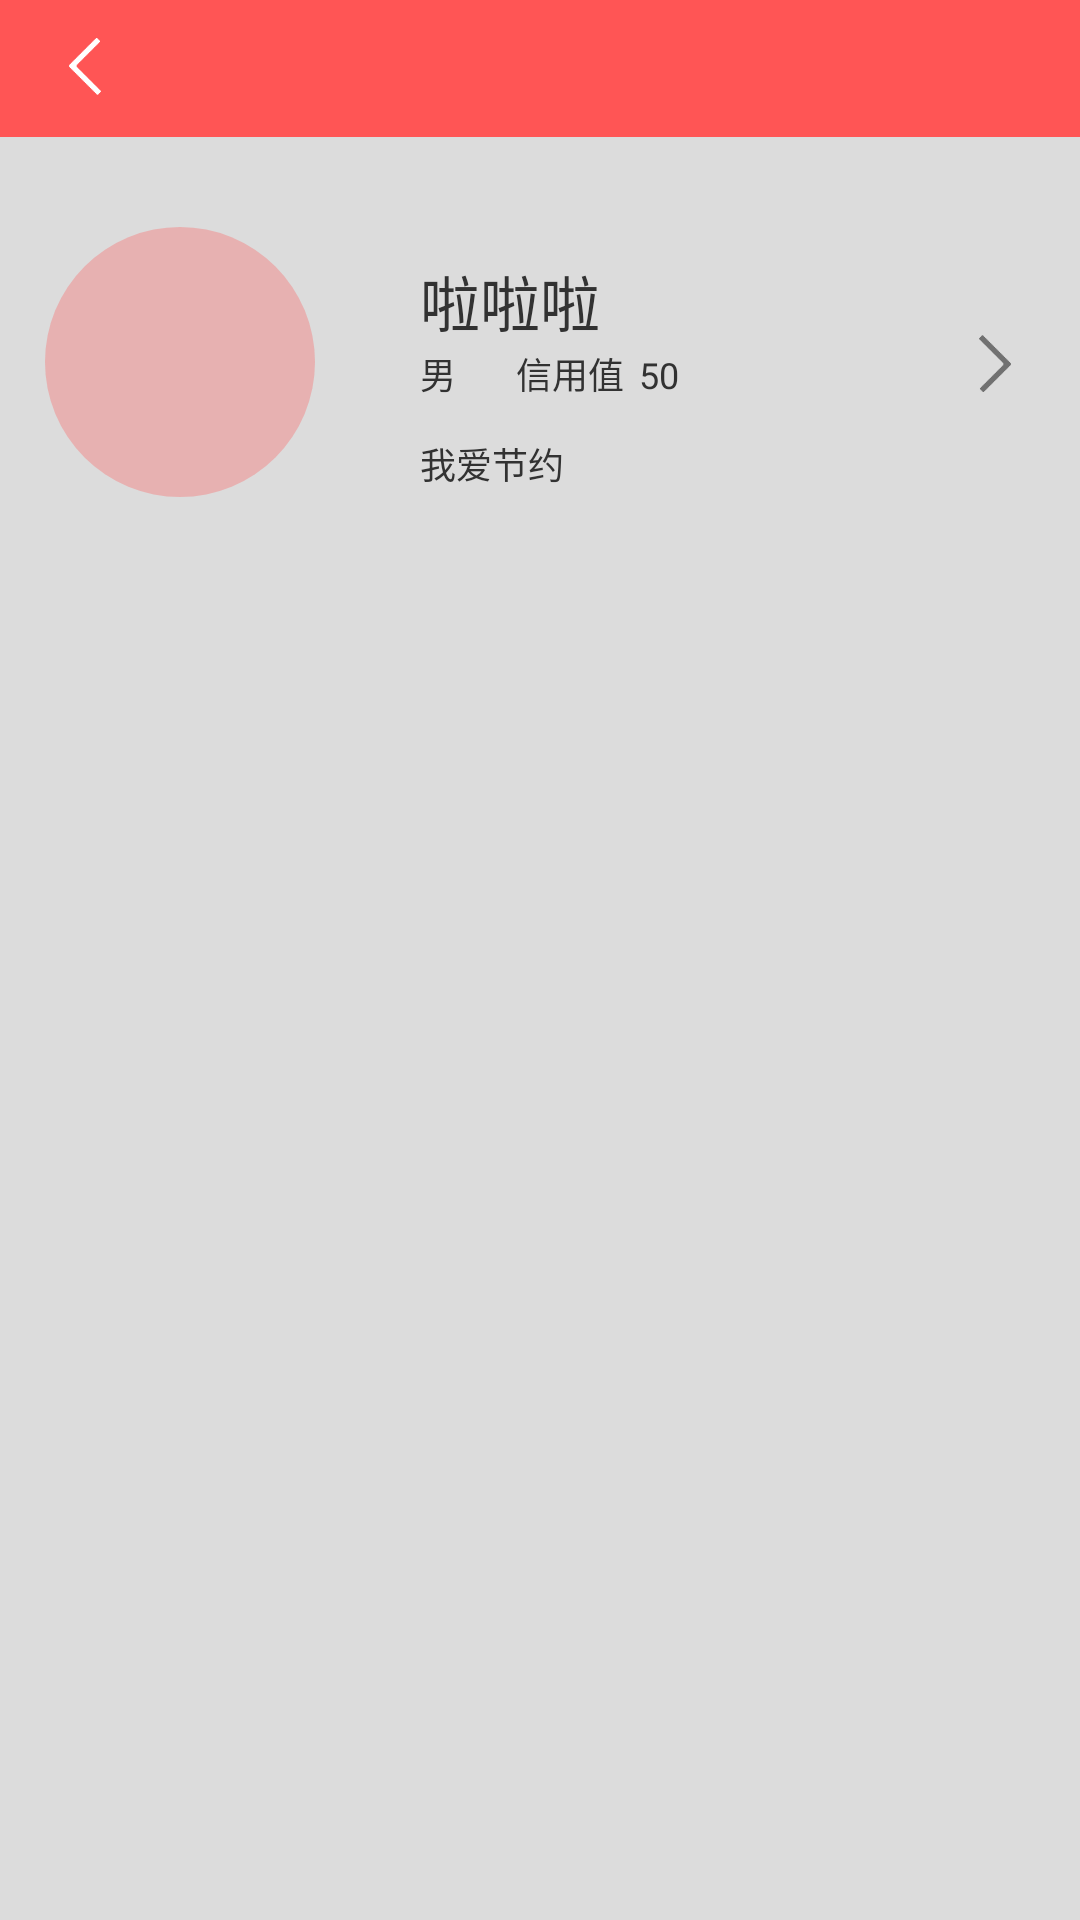

Where to tap for icons on this 1080*1920 app screen, as (x,y):
jiantou: (995,363)
jiantou left: (85,66)
